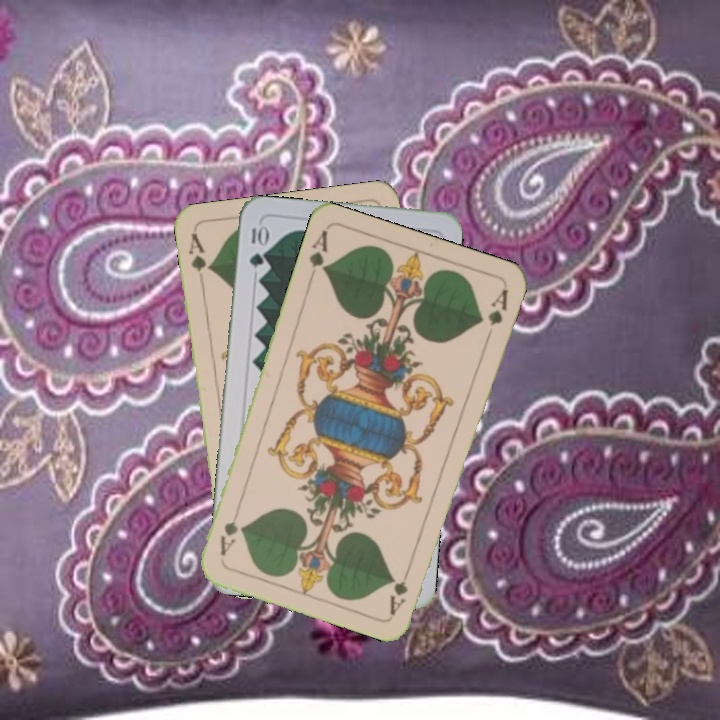G10: (245, 220, 268, 270)
GA: (385, 560, 415, 617), (304, 226, 330, 284), (184, 229, 214, 274)
